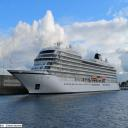cruises: (7, 42, 122, 97)
